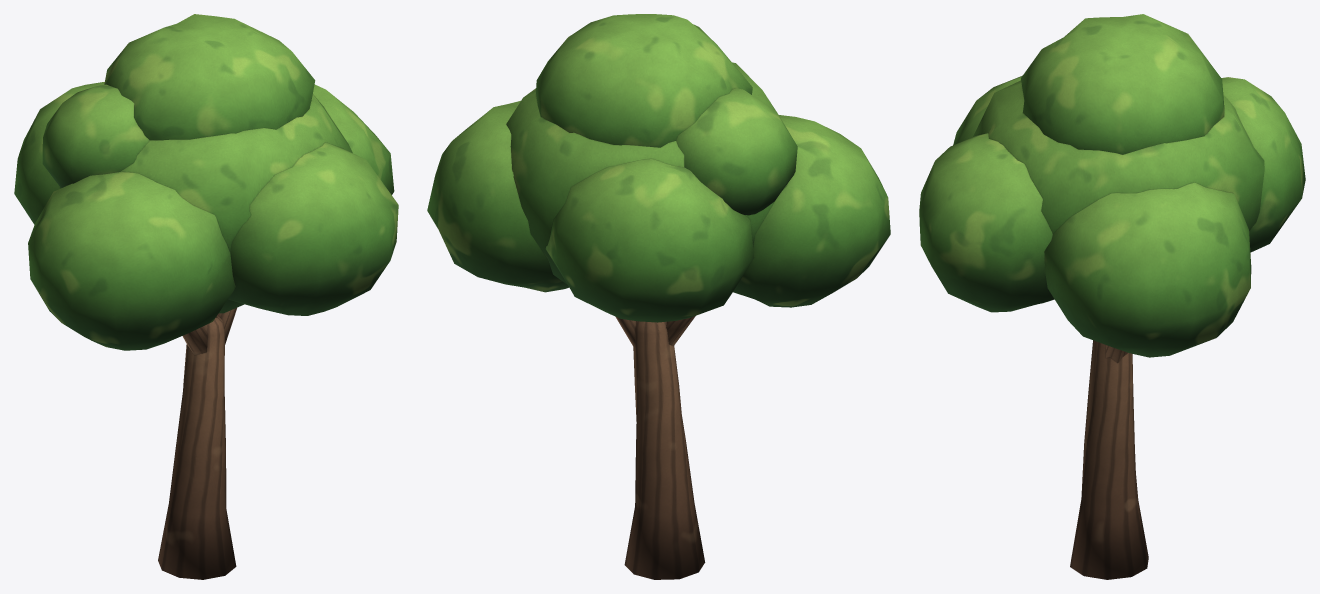
File: Arbol_Hoja.fbx
3 renders of one model, left to right at view 1: azimuth 30°, elevation 25°; view 2: azimuth 150°, elevation 25°; view 3: azimuth 270°, elevation 25°, orthographic. The views are drawn at different scales.
Parts seen in each view (by area): view 1: Malla; view 2: Malla; view 3: Malla.
Part boxes in pixels (x1,y1,x2,y2): Malla: [14, 14, 398, 579]; Malla: [427, 14, 890, 579]; Malla: [919, 14, 1305, 579].
Size of the model in its own units: 6.88 by 9 by 5.85.
1 material, 1 textured.
